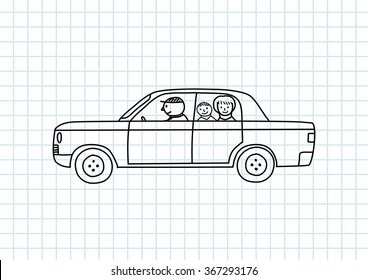car: (51, 87, 317, 185)
